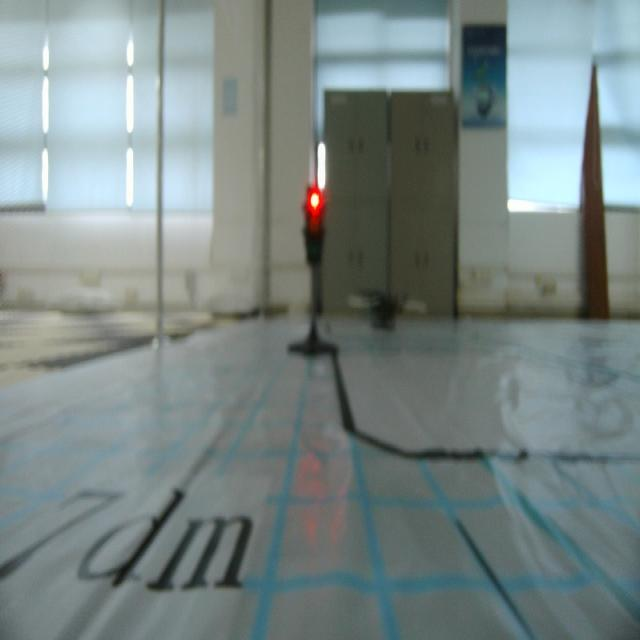red: (302, 183, 328, 269)
